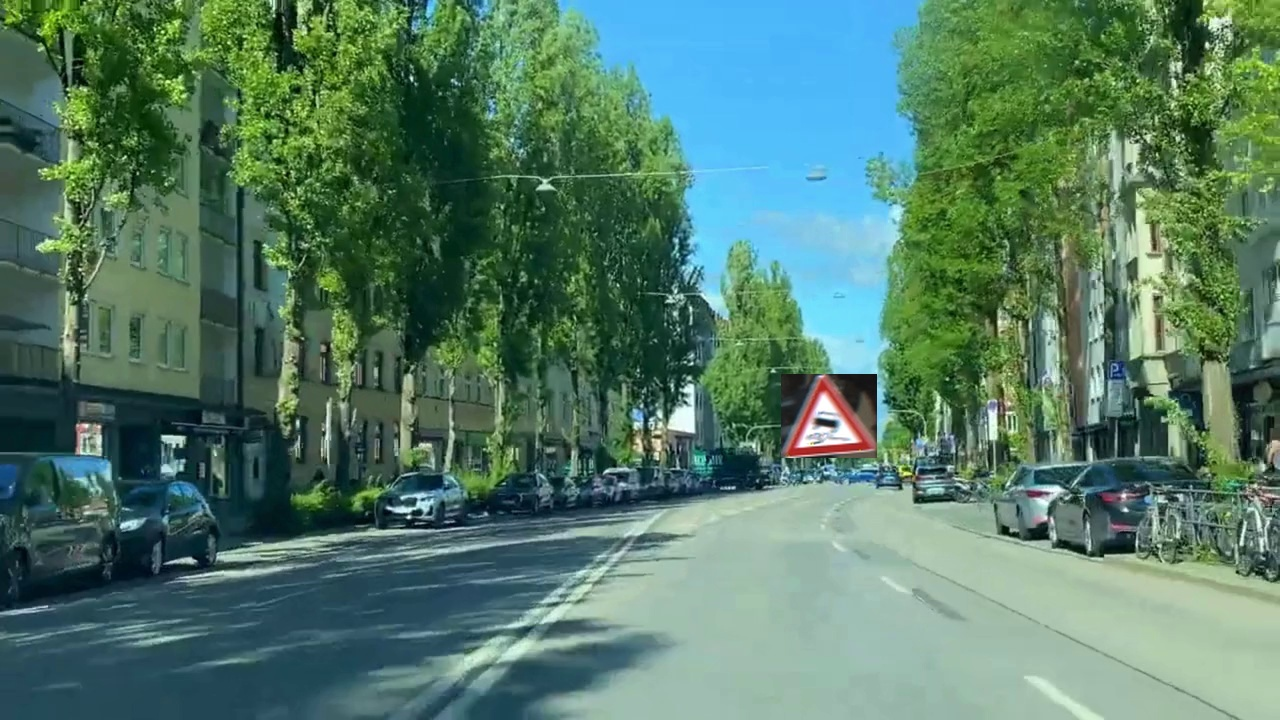Slippery: (781, 374, 877, 458)
